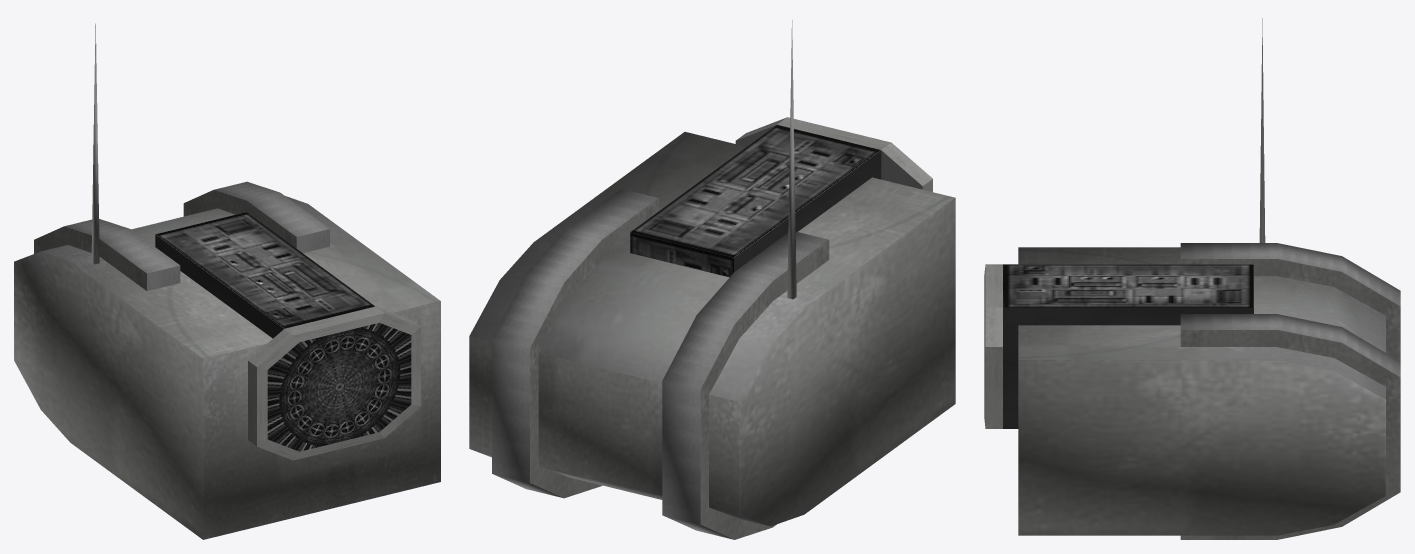
Rendered from QuadAAATurretBase.fbx.
The picture shows the model from 3 angles, left to right: view 1: azimuth 30°, elevation 25°; view 2: azimuth 150°, elevation 25°; view 3: azimuth 270°, elevation 25°; orthographic projection. The views are drawn at different scales.
Parts seen in each view (by area): view 1: QuadAAATurretBase; view 2: QuadAAATurretBase; view 3: QuadAAATurretBase.
Boxes of the visible parts, box(x1,y1,x2,y2) form: QuadAAATurretBase: box(14, 23, 440, 539); QuadAAATurretBase: box(469, 20, 955, 539); QuadAAATurretBase: box(984, 18, 1400, 539).
Size of the model in its own units: 39.1 by 70.32 by 60.99.
